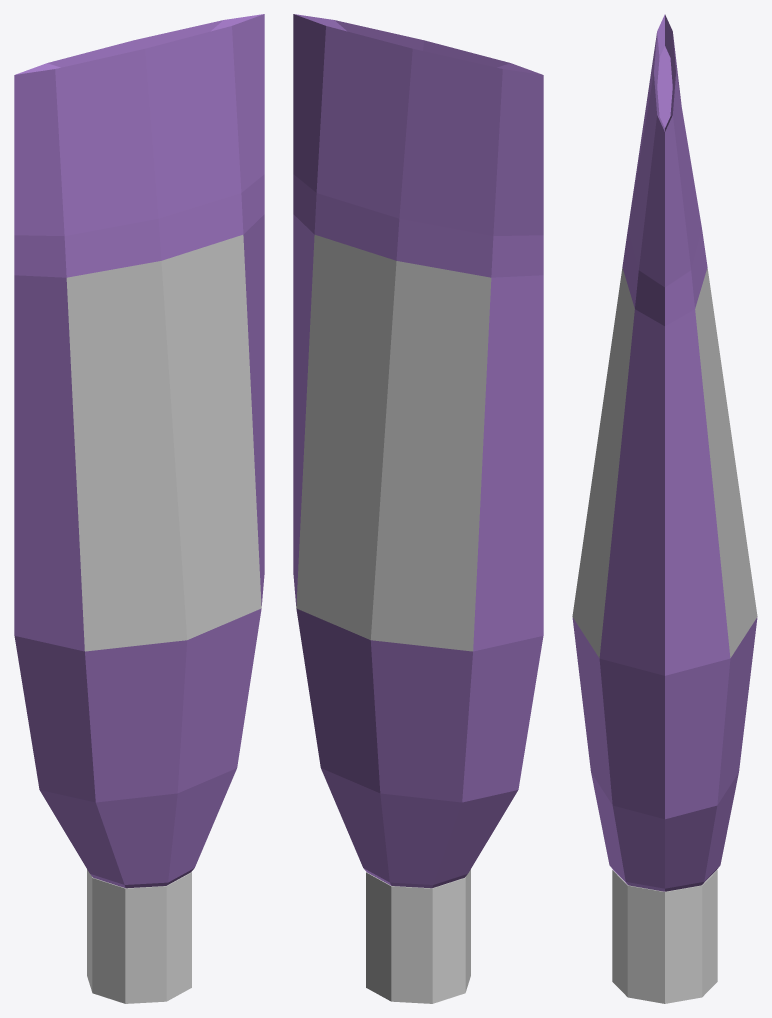
File: Conditioner Bottle.fbx
The picture shows the model from 3 angles, left to right: view 1: azimuth 30°, elevation 25°; view 2: azimuth 150°, elevation 25°; view 3: azimuth 270°, elevation 25°; orthographic projection. The views are drawn at different scales.
Parts seen in each view (by area): view 1: Conditioner Bottle, Lid; view 2: Conditioner Bottle, Lid; view 3: Conditioner Bottle, Lid.
Part boxes in pixels (box(x1,y1,x2,y2)): Conditioner Bottle: box(14, 14, 264, 888); Lid: box(87, 869, 191, 1003); Conditioner Bottle: box(293, 14, 543, 888); Lid: box(366, 869, 470, 1003); Conditioner Bottle: box(572, 14, 757, 891); Lid: box(612, 869, 717, 1003).
Bounding box in the file's own units: 54.43 × 195 × 36.
